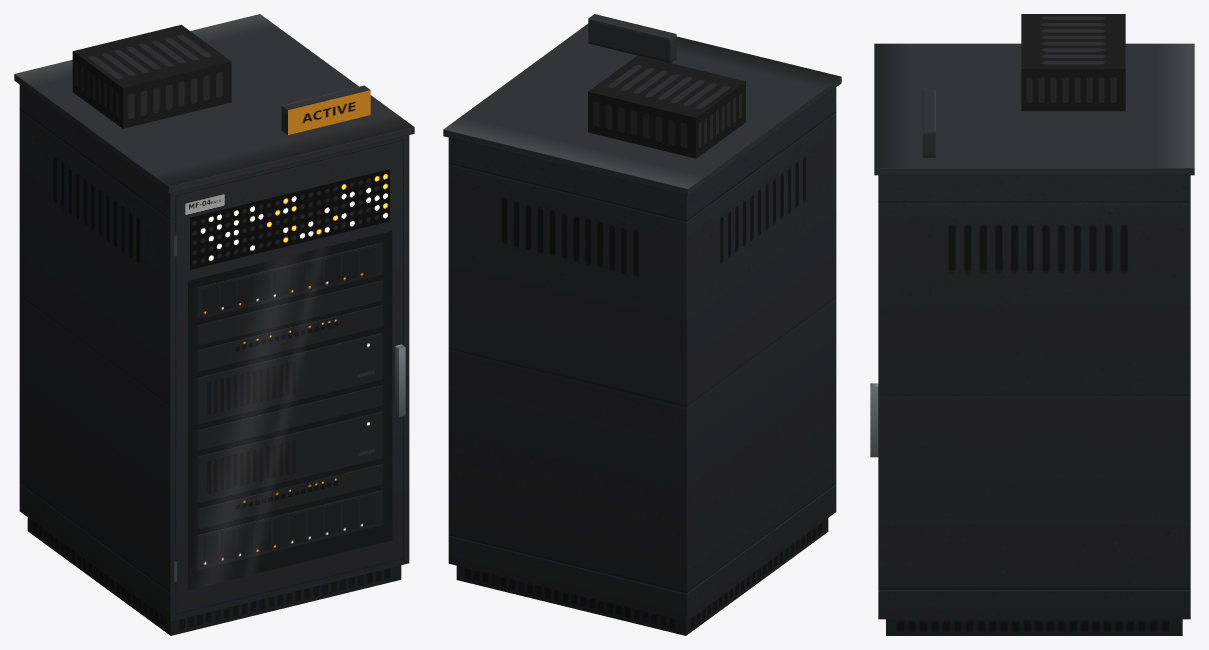
File: cabinet-rack.glb
3 views of the same model, side by side, from view 1: azimuth 30°, elevation 25°; view 2: azimuth 150°, elevation 25°; view 3: azimuth 270°, elevation 25° (orthographic). The views are drawn at different scales.
Visible parts, largest first — view 1: CabinetRack, Glass, LedPanel; view 2: CabinetRack; view 3: CabinetRack.
Boxes of the visible parts, bbox=[...] form: CabinetRack: bbox=[14, 14, 414, 635]; Glass: bbox=[188, 231, 392, 590]; LedPanel: bbox=[190, 169, 389, 269]; CabinetRack: bbox=[443, 14, 841, 635]; CabinetRack: bbox=[870, 14, 1194, 635].
Size of the model in its own units: 1.13 by 2.18 by 1.25.
Materials: 3 (3 with a texture image).
